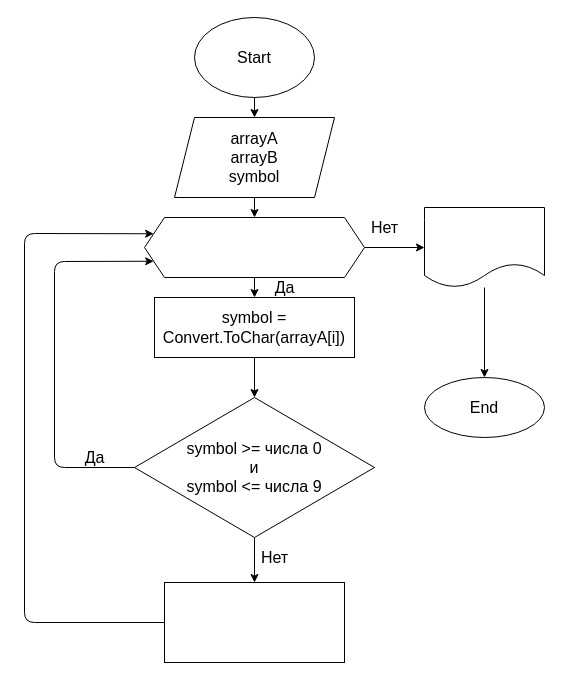
The diagram is 562 pixels wide and 680 high, and some of its shapes have lost their labels. The centre of each missing label's shape, as x and y in pixels:
"arrayB" belongs at point 484,247.
"i = 0; i < arrayA.Length; i++" belongs at point 254,247.
"symbols = Convert.ToString(symbol) arrayB[i] = symbols" belongs at point 254,622.
